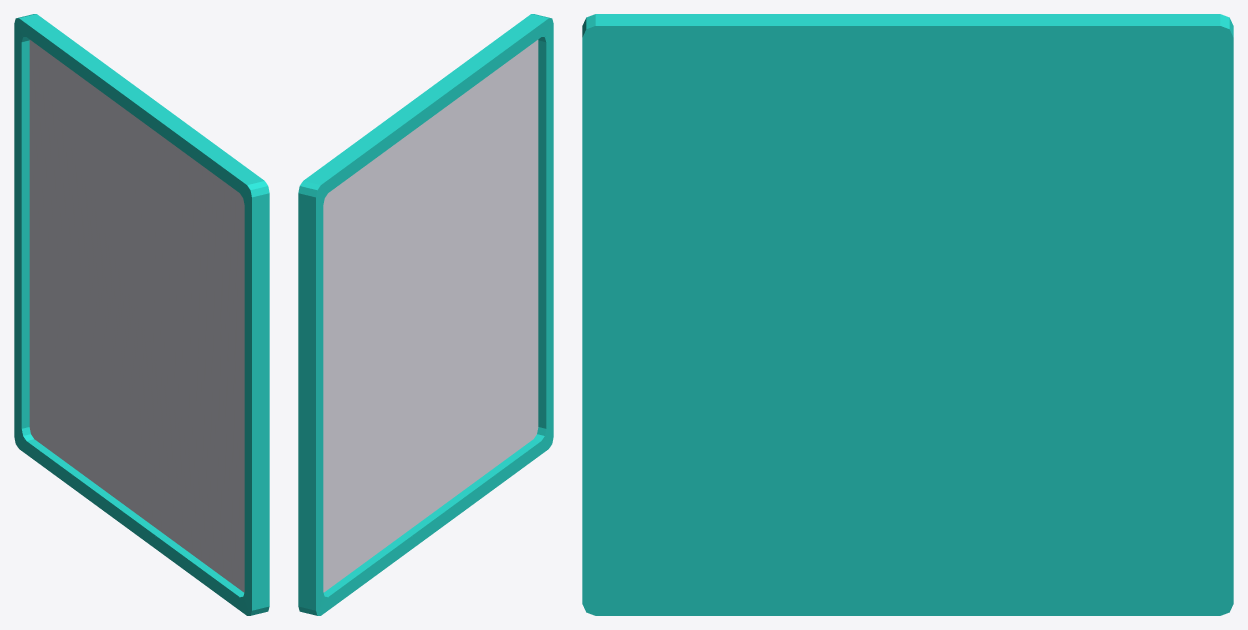
The model's file is affiche_carrée.fbx.
3 renders of one model, left to right at view 1: azimuth 30°, elevation 25°; view 2: azimuth 150°, elevation 25°; view 3: azimuth 270°, elevation 25°, orthographic. The views are drawn at different scales.
Parts seen in each view (by area): view 1: affiche_carrée, affiche_carrée_néon; view 2: affiche_carrée, affiche_carrée_néon; view 3: affiche_carrée_néon.
Part boxes in pixels (box(x1,y1,x2,y2)): affiche_carrée: box(21, 34, 245, 600); affiche_carrée_néon: box(14, 14, 269, 615); affiche_carrée: box(322, 34, 546, 600); affiche_carrée_néon: box(298, 14, 553, 615); affiche_carrée_néon: box(582, 14, 1233, 615).
Bounding box in the file's own units: 10.59 × 246 × 246.
